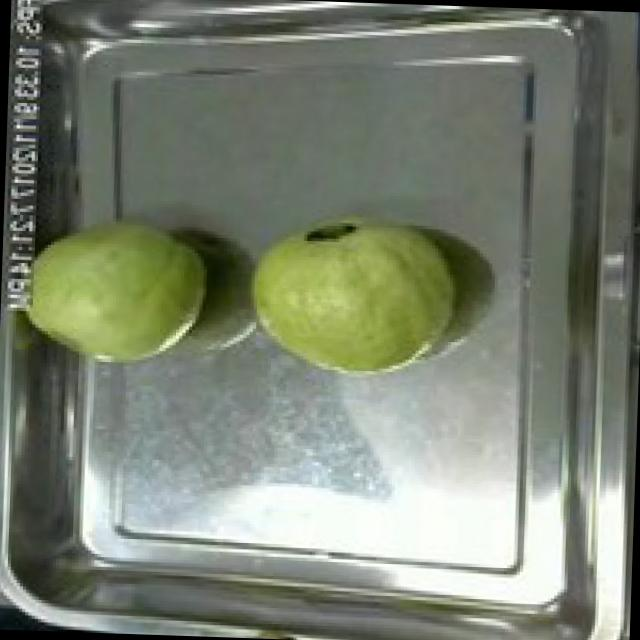Fruit: (238, 205, 468, 389), (18, 200, 218, 378)
